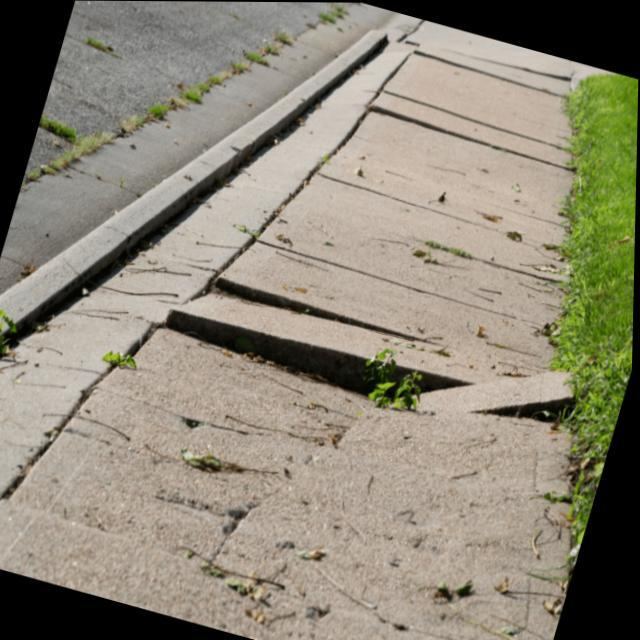hole: (156, 244, 594, 492)
